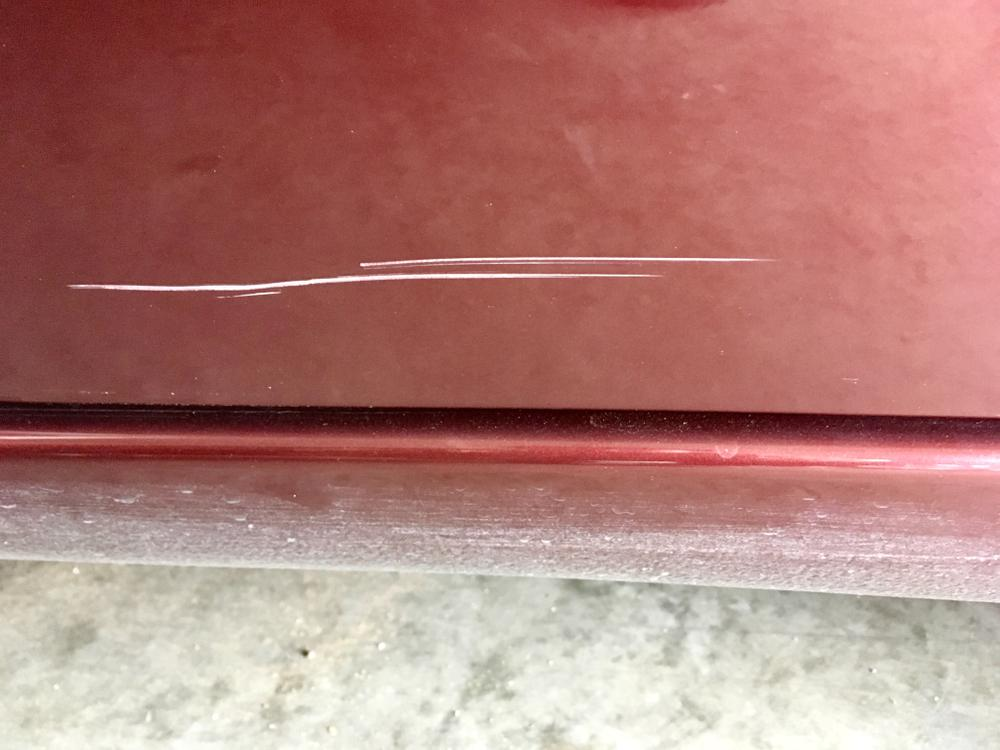scratch: (52, 253, 787, 307)
